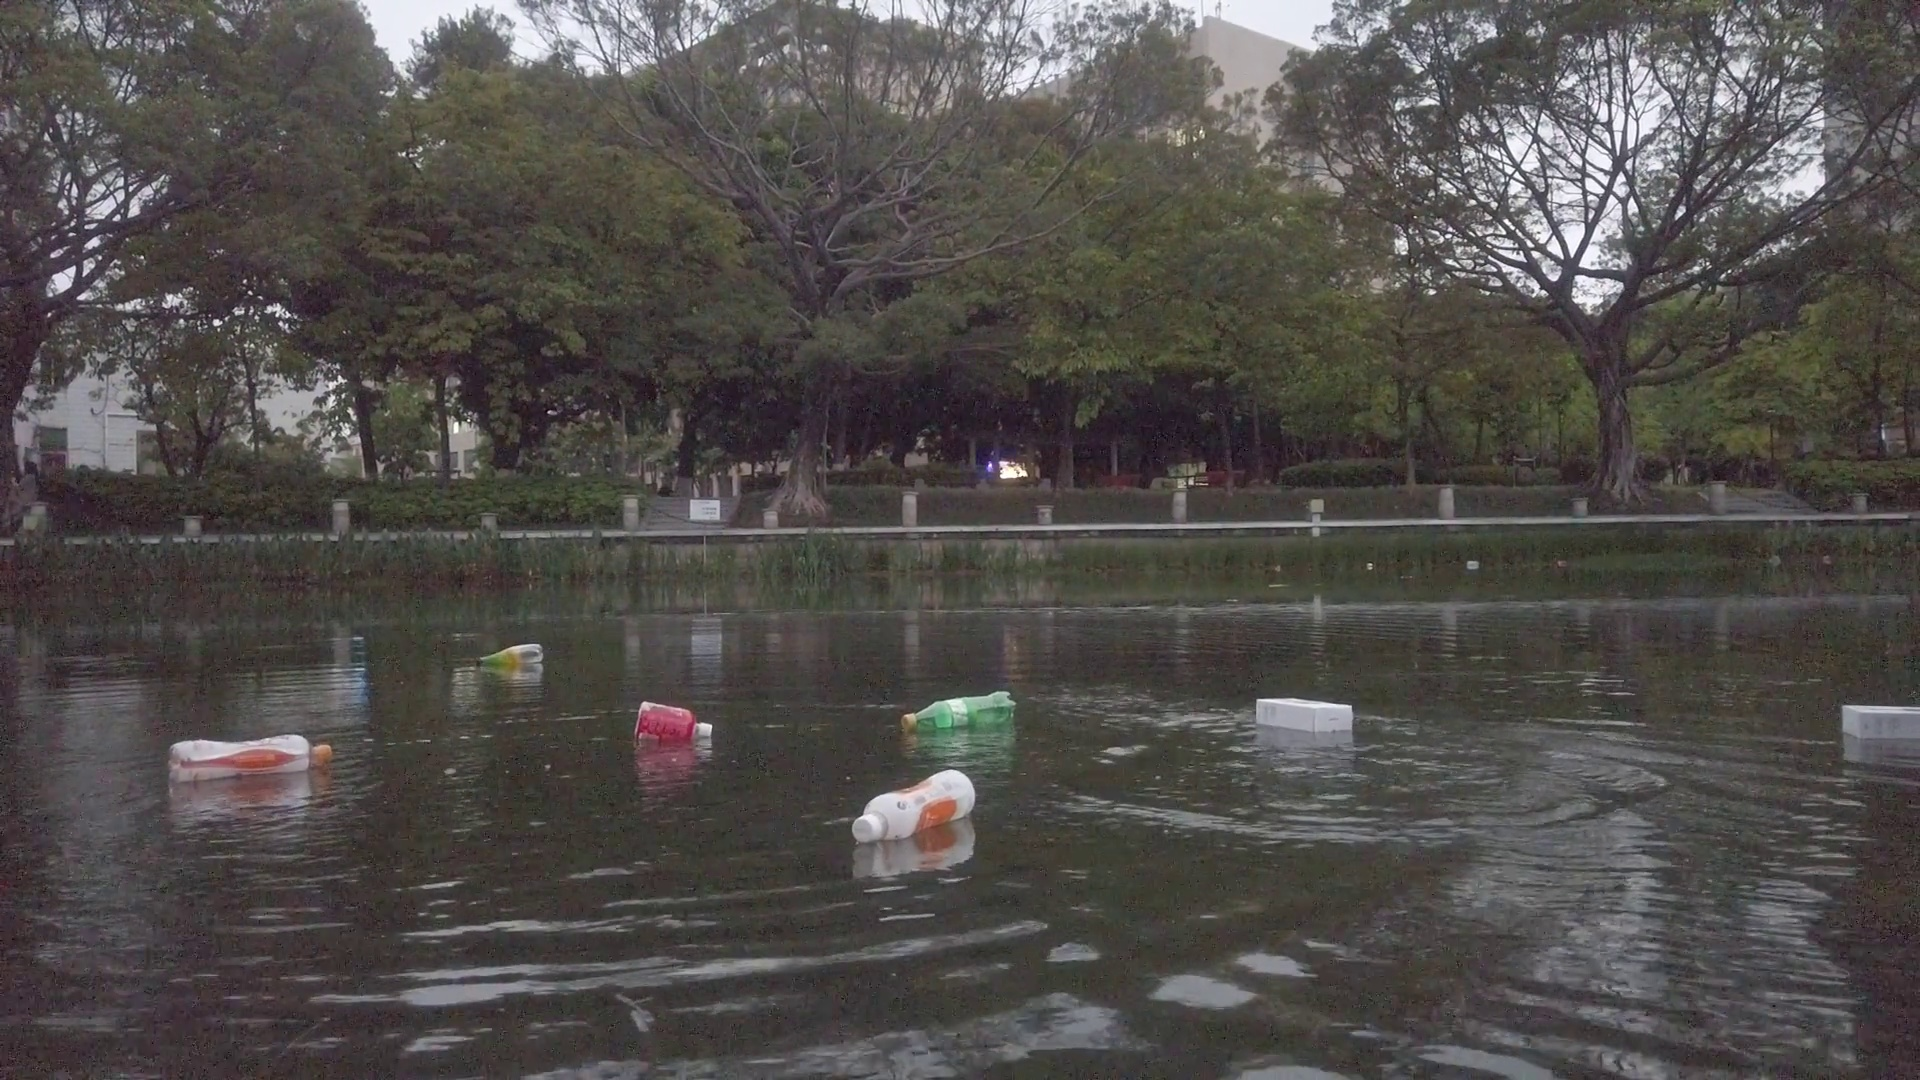bottle: (855, 767, 978, 844), (167, 735, 338, 781), (901, 694, 1019, 732), (634, 696, 713, 745), (475, 640, 545, 667)
carton: (1255, 694, 1354, 733), (1840, 702, 1917, 740), (1468, 559, 1476, 568)
